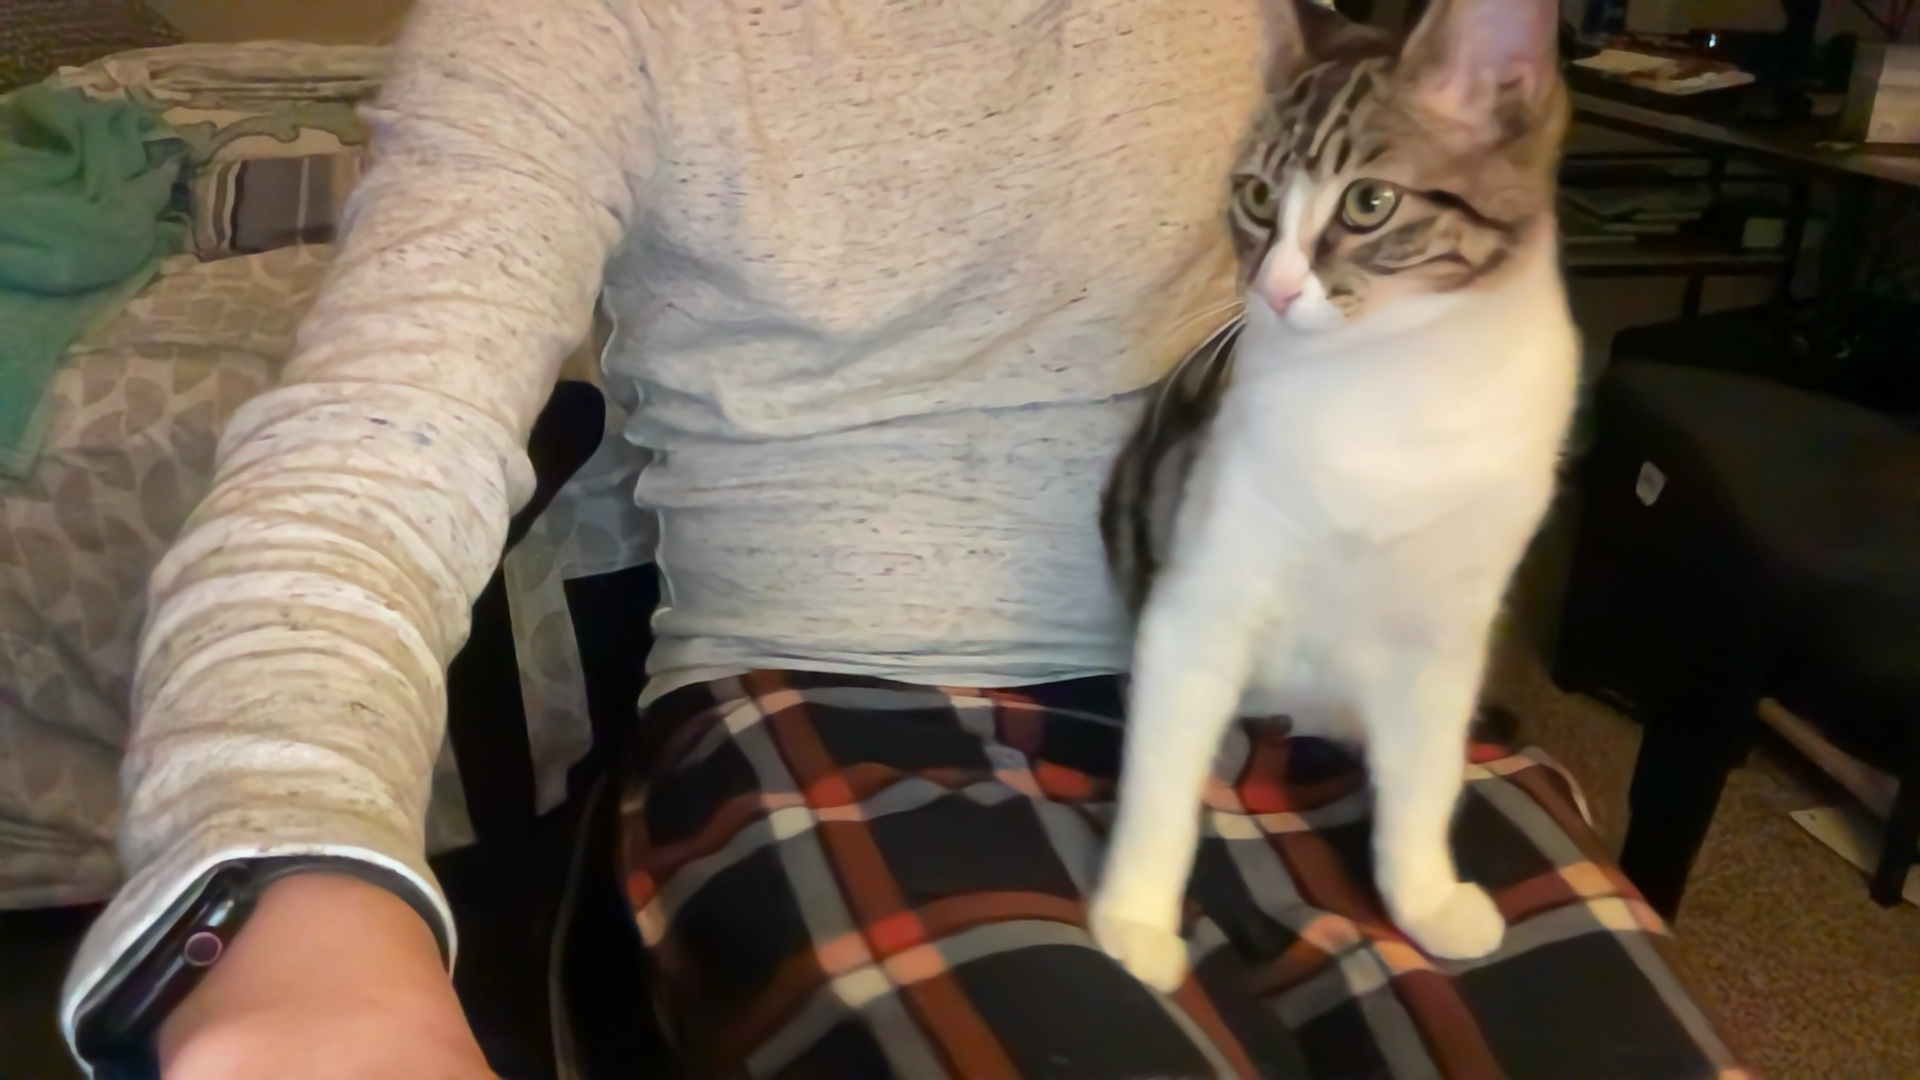cat: (1100, 5, 1590, 989)
